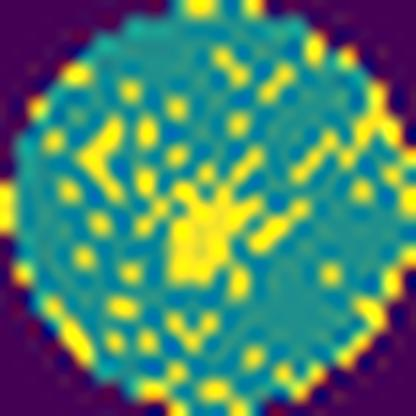Center: (157, 178, 270, 300)
